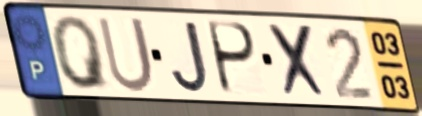2: (321, 25, 377, 102)
J: (169, 18, 212, 96)
P: (207, 18, 260, 98)
Q: (49, 14, 114, 92)
U: (95, 14, 158, 96)
X: (265, 21, 332, 102)
